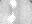person: (8, 13, 14, 23), (11, 1, 17, 8)
